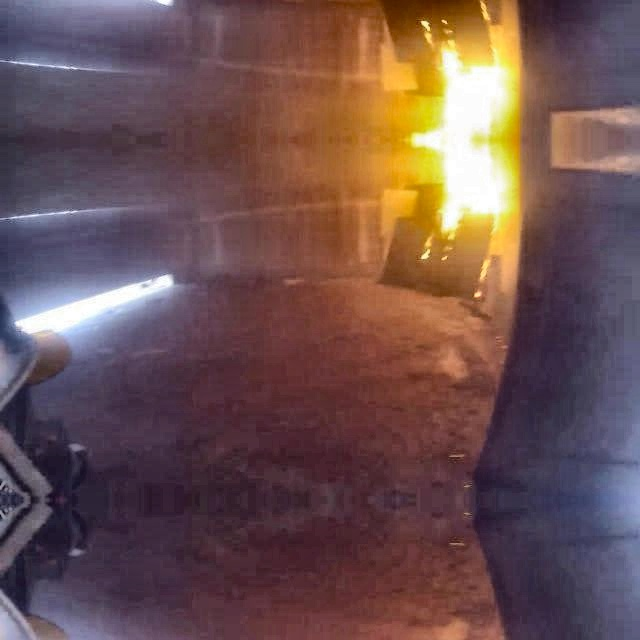fire: (388, 14, 547, 251)
